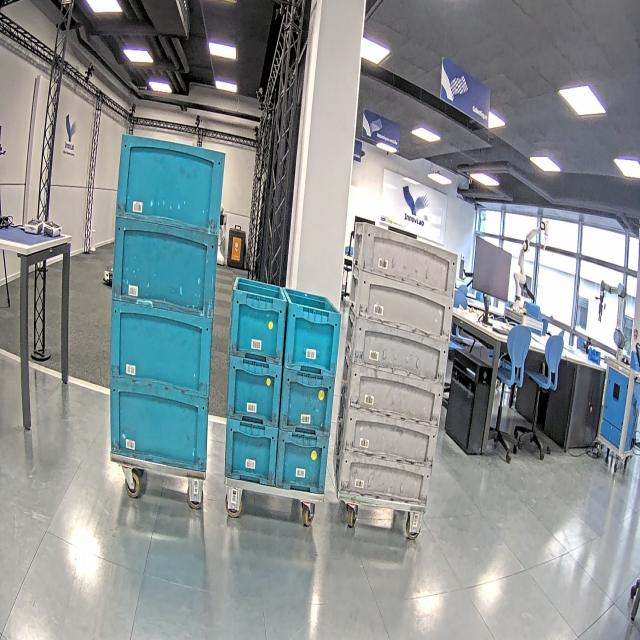Box3G: (344, 308, 458, 392), (340, 349, 445, 433), (352, 220, 458, 301), (349, 265, 454, 346), (337, 400, 439, 470), (334, 439, 432, 506)
BoxB4: (110, 216, 218, 323), (115, 133, 227, 236), (110, 297, 214, 403)
BoxB8: (108, 374, 208, 478), (283, 287, 344, 381), (230, 273, 286, 370), (280, 365, 336, 441), (228, 352, 283, 428), (224, 418, 282, 485), (275, 432, 332, 492)
